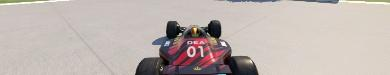Car: (134, 19, 259, 74)
